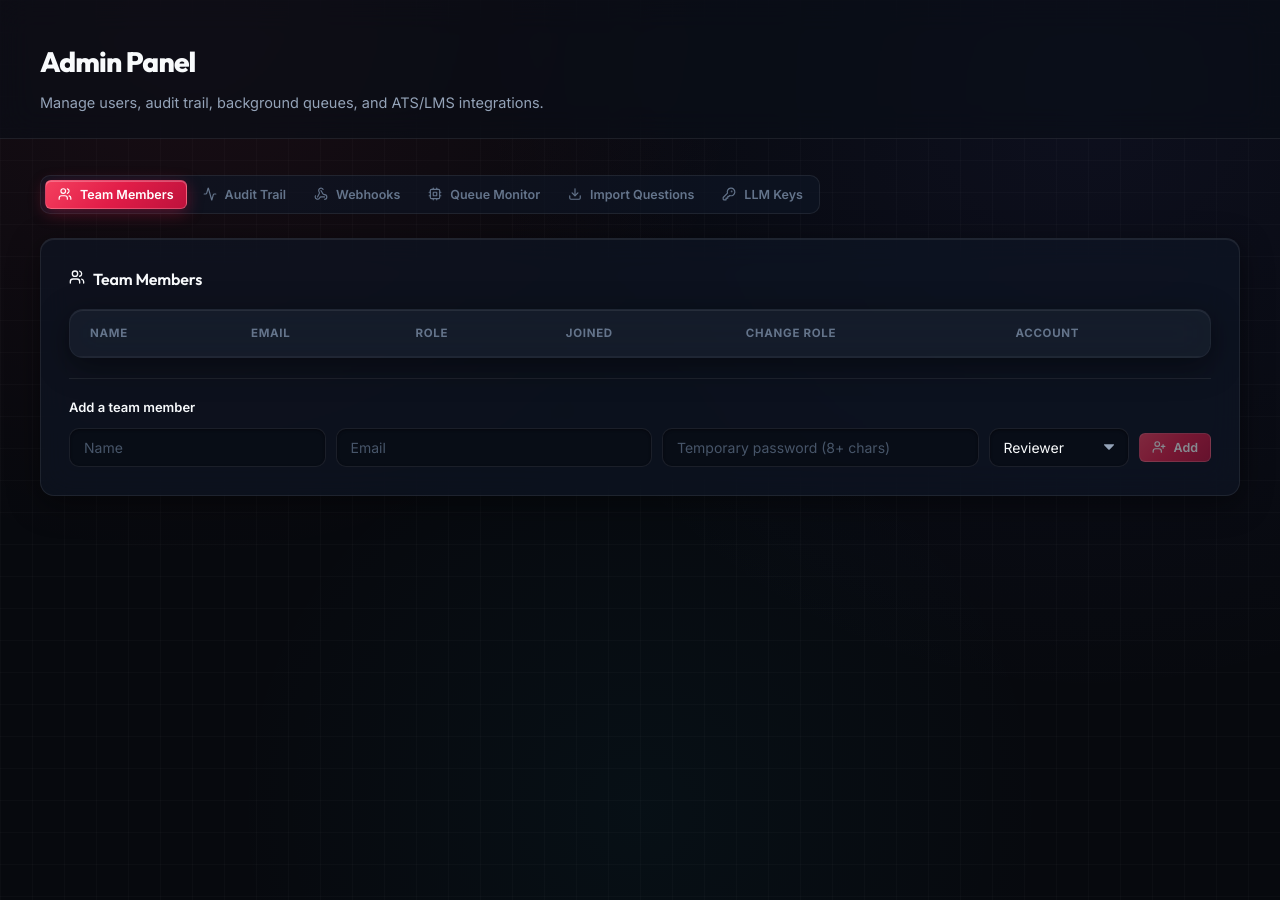
Test: AdminPage — Import Questions tab › shows an error message when the preview fetch fails
Click the button "Import Questions".
click(631, 194)  # box [556,180,706,209]
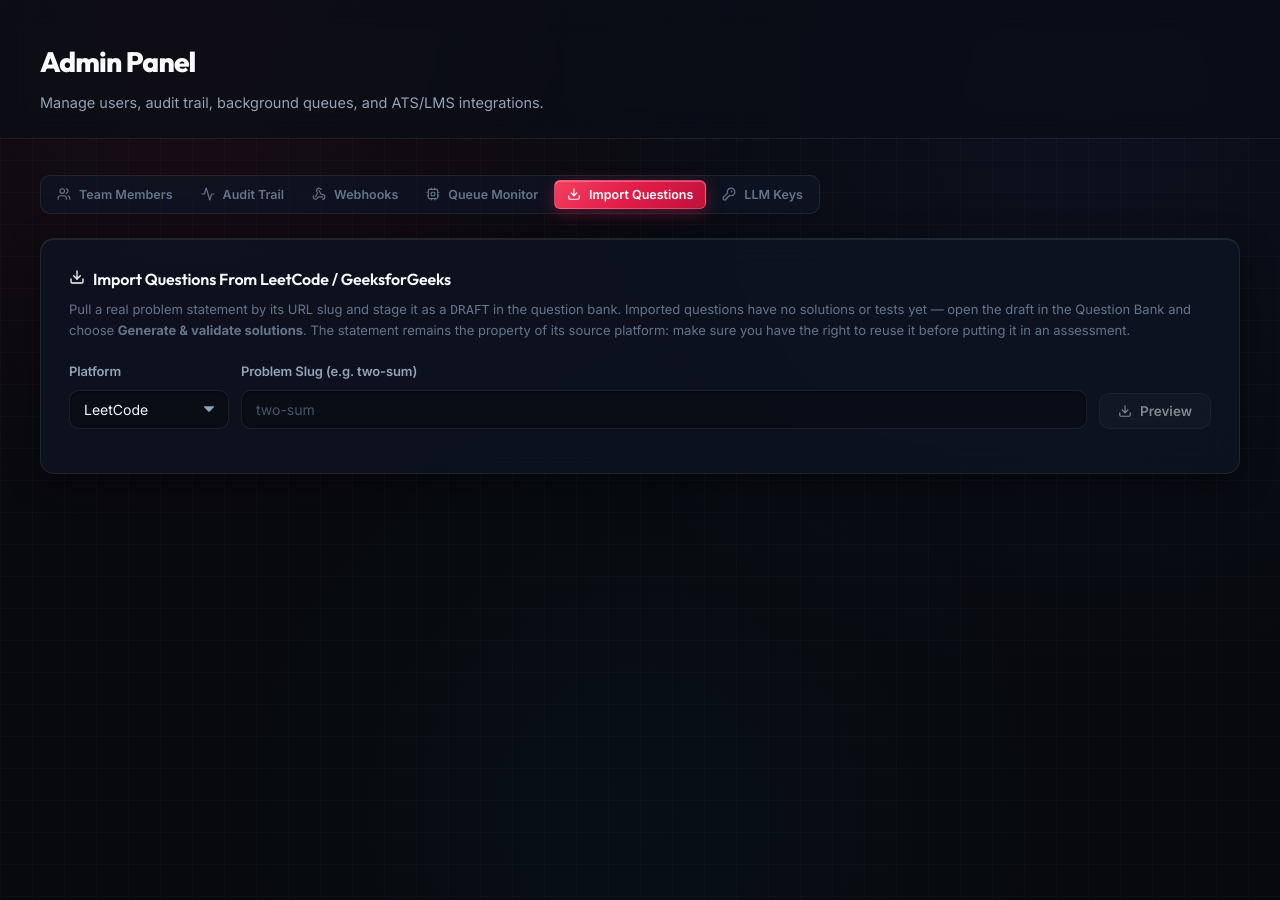
Type "does-not-exist" into the field with placeholder "two-sum".
click(664, 410); type("does-not-exist")  # box [241,390,1087,429]
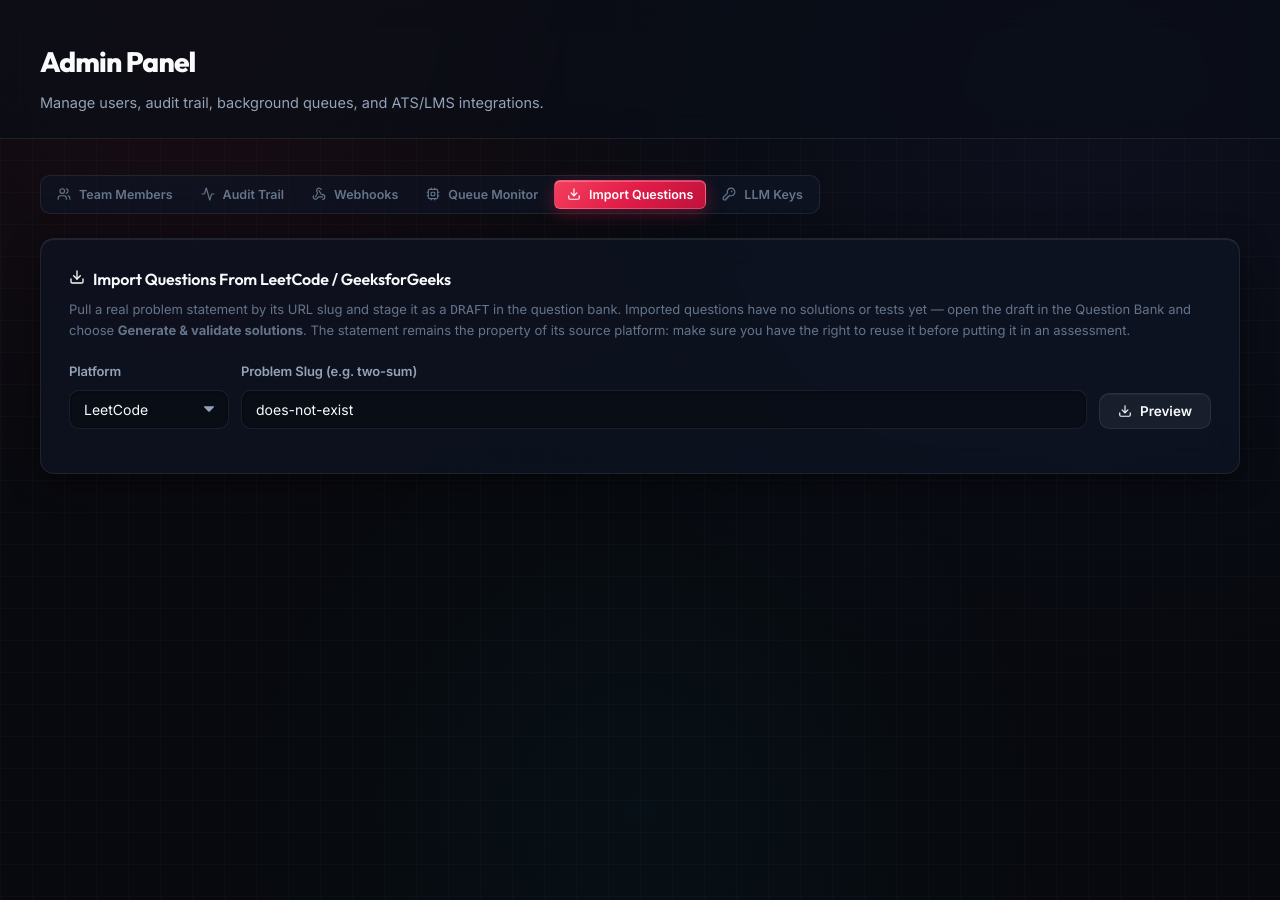
Click the button "Preview".
click(1155, 411)  # box [1099,393,1211,429]
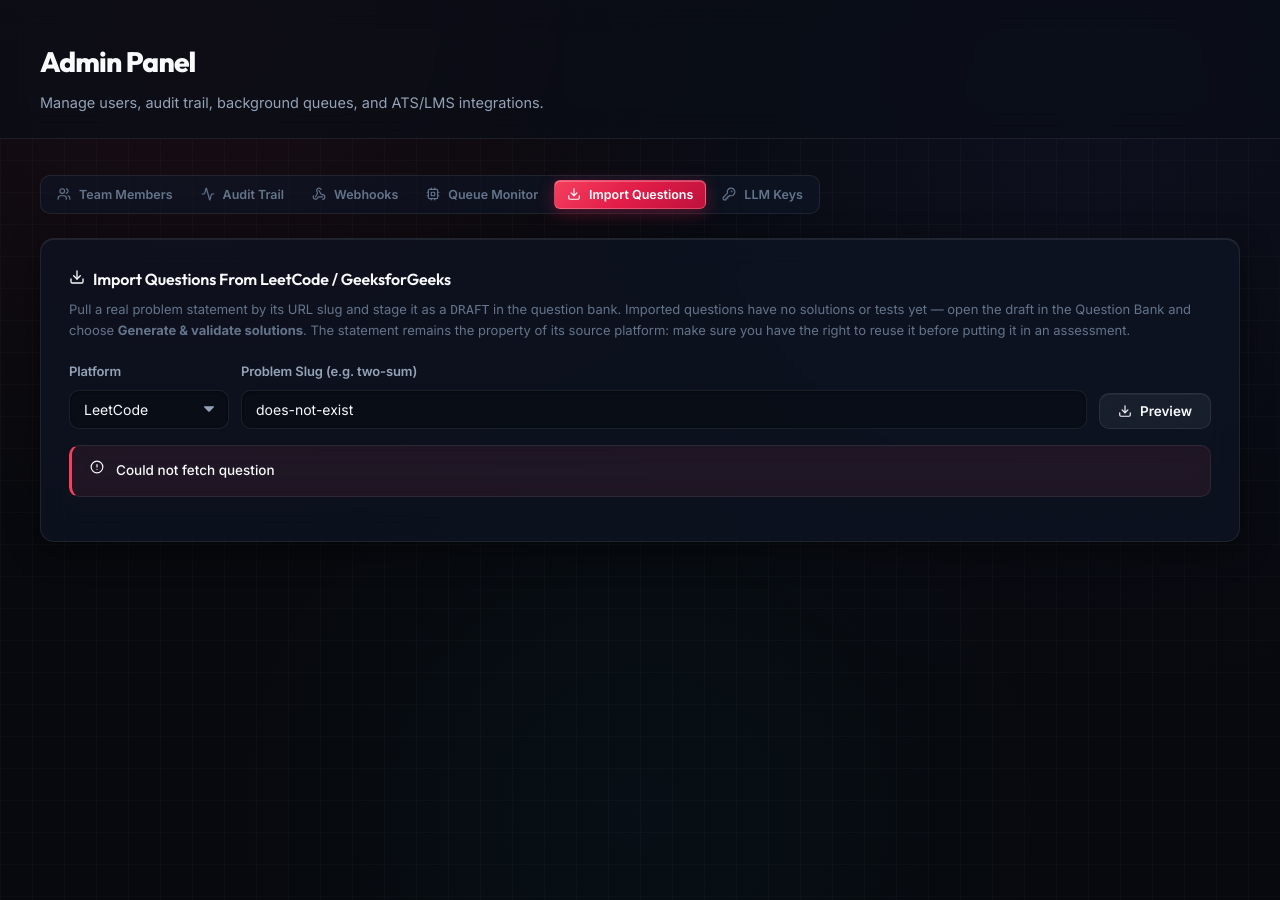
Expected: the text "Could not fetch question" is shown, [116,460,275,482]
